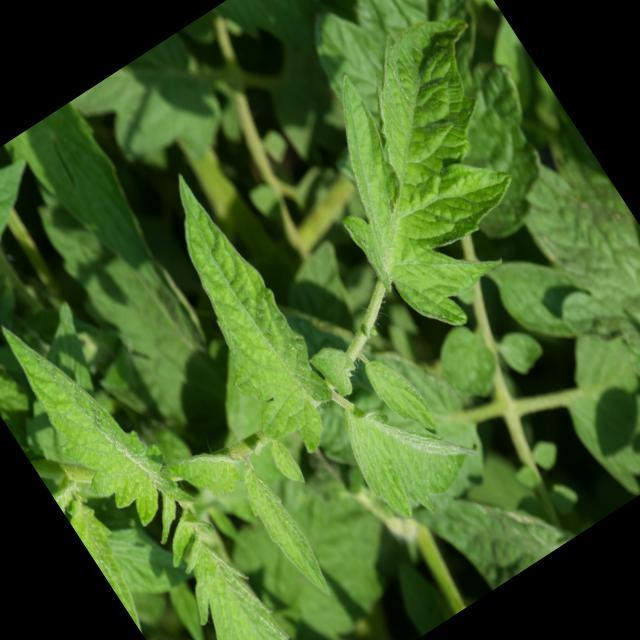Tomato healthy leaf: (264, 0, 604, 351), (116, 161, 364, 475), (0, 288, 206, 565), (328, 362, 498, 537), (147, 502, 330, 640), (225, 456, 342, 610), (354, 339, 444, 450)
